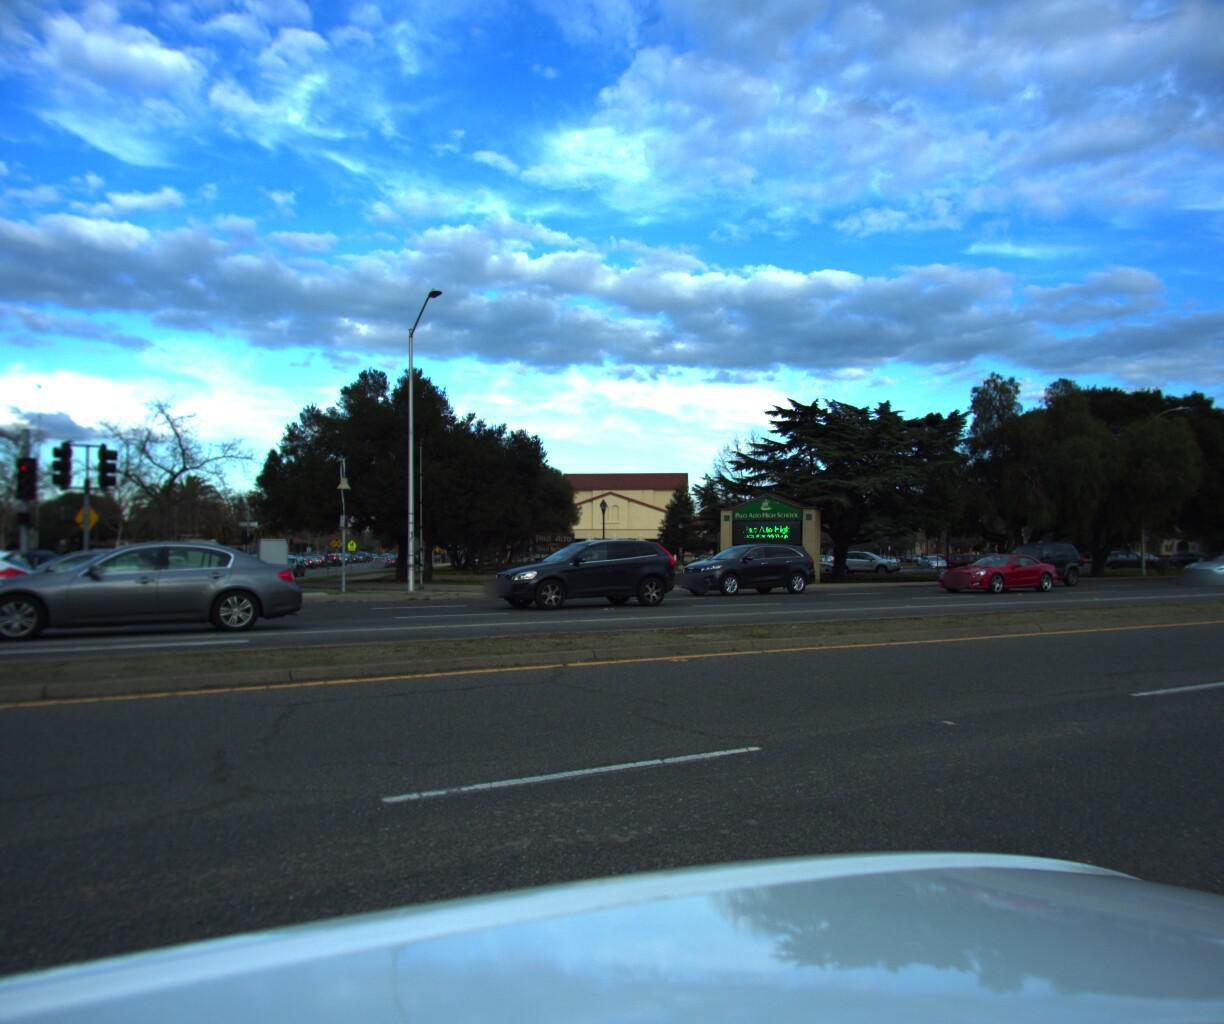car: (0, 536, 308, 660), (476, 532, 680, 612), (0, 547, 236, 614), (670, 536, 821, 593), (924, 546, 1061, 591), (989, 536, 1102, 583), (0, 541, 49, 649), (1171, 543, 1224, 580)
